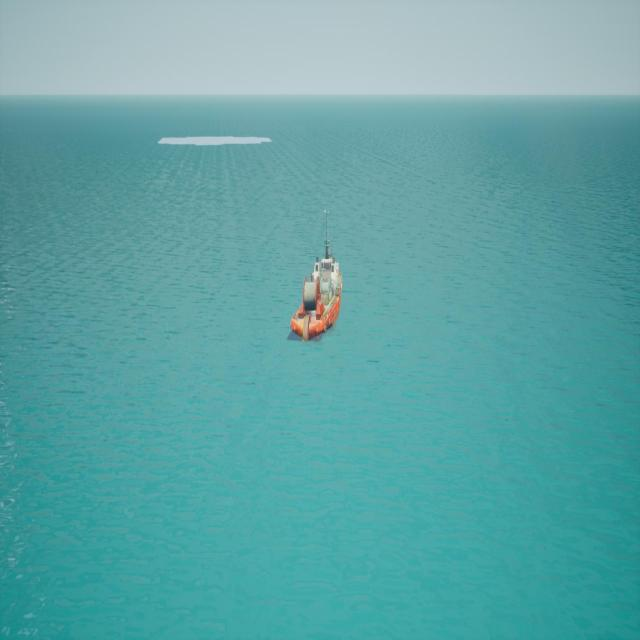tug boat: (294, 211, 344, 346)
